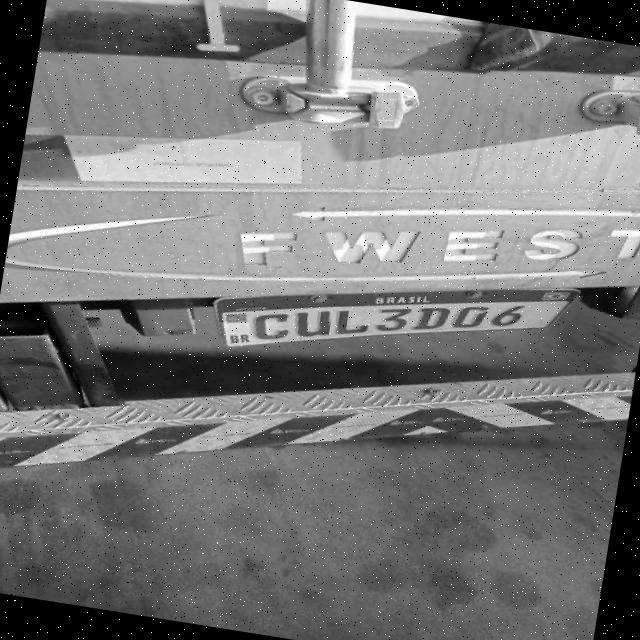placa_mercosul: (217, 290, 579, 349)
